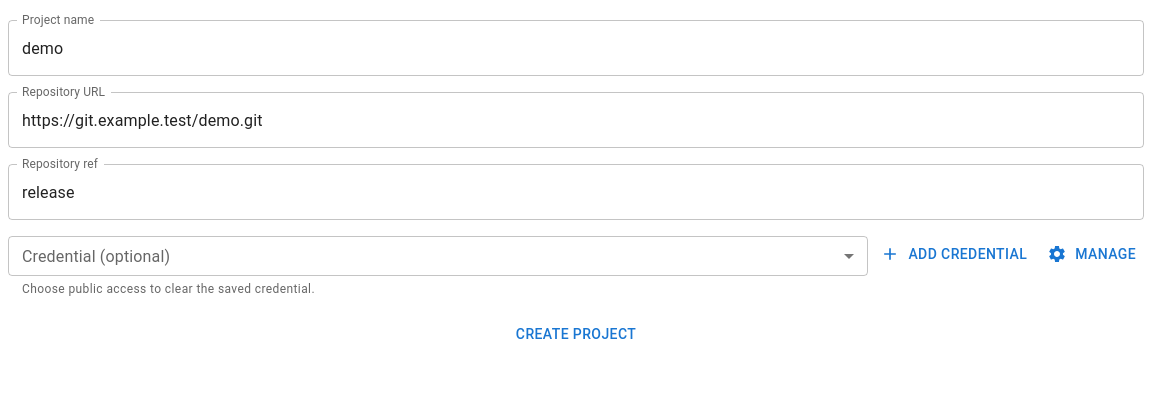
Test: hides a secret credential from the selector while offering Git credentials
This screenshot has width=1152, height=394.
Click the dropdown named "Credential (optional)".
click(438, 256)  # box [8,236,868,276]
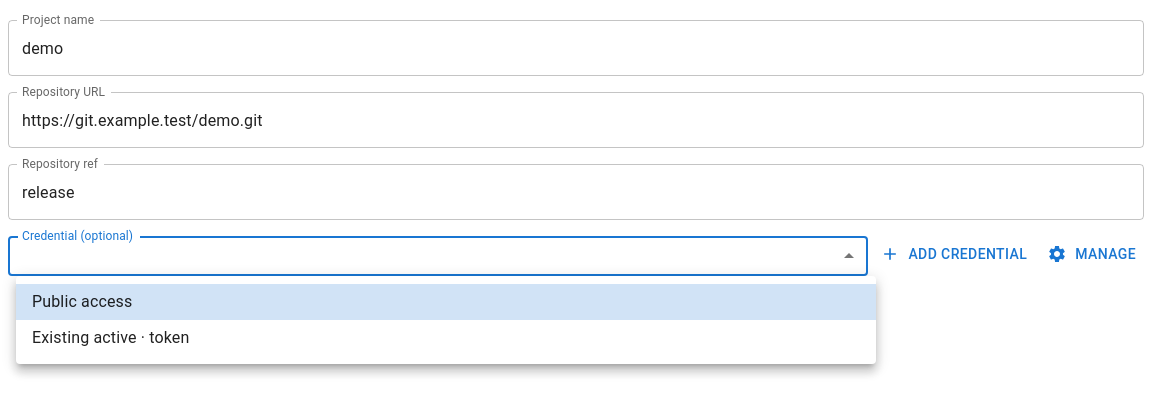
Result: the option "Existing active · token" is shown at [32,328,190,347]
